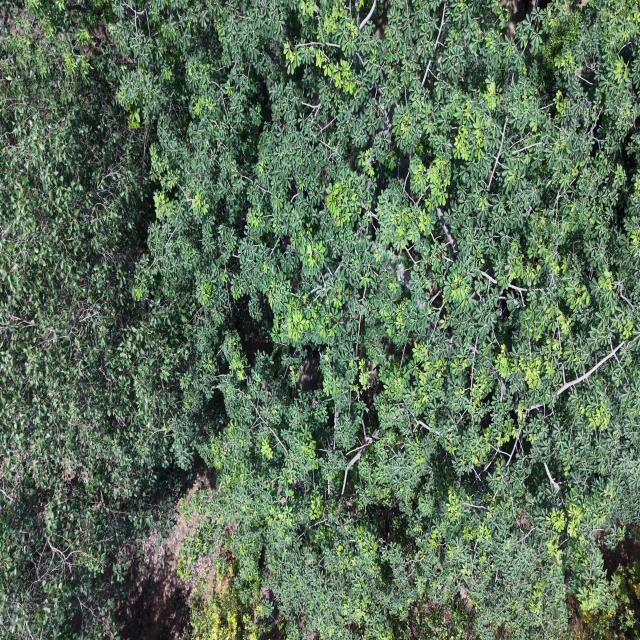VEGETATION_TREE: (0, 0, 639, 639), (0, 5, 196, 638)
